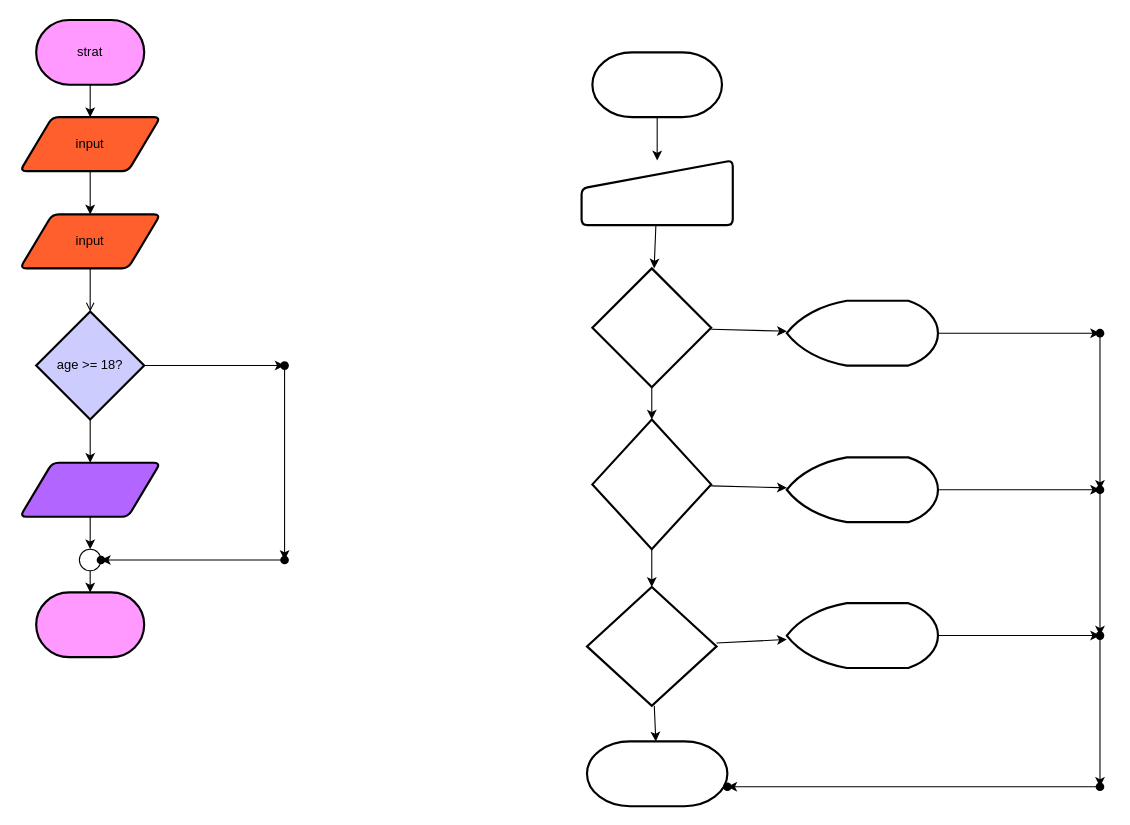
The diagram is 1130 pixels wide and 825 high, and some of its shapes have lost their labels. The centre of each missing label's shape, as x and y in pixels:
stop: the point at 90,624
you are an adult: the point at 89,489
